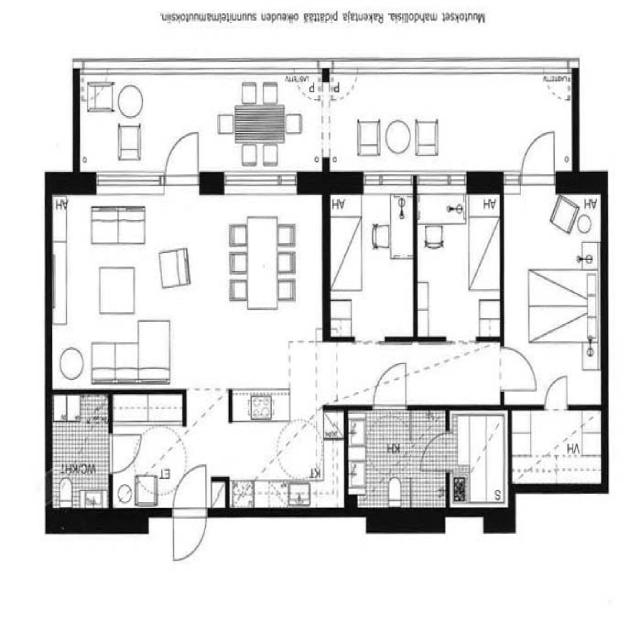door: (350, 387, 441, 512), (507, 402, 609, 487), (167, 460, 211, 565), (161, 124, 206, 191), (518, 127, 560, 195), (492, 343, 540, 397), (369, 360, 413, 412), (104, 430, 145, 479), (418, 430, 453, 472), (350, 317, 390, 353), (540, 371, 573, 411), (442, 331, 482, 362), (330, 66, 360, 106), (541, 65, 571, 101)
window: (215, 169, 302, 198), (88, 172, 166, 196), (356, 168, 419, 192), (417, 170, 469, 192), (501, 168, 522, 194)
zone: (58, 192, 326, 388), (504, 179, 606, 407), (416, 186, 504, 342), (326, 188, 416, 340), (225, 406, 343, 510), (348, 408, 458, 512), (508, 406, 608, 488), (49, 394, 112, 516)
